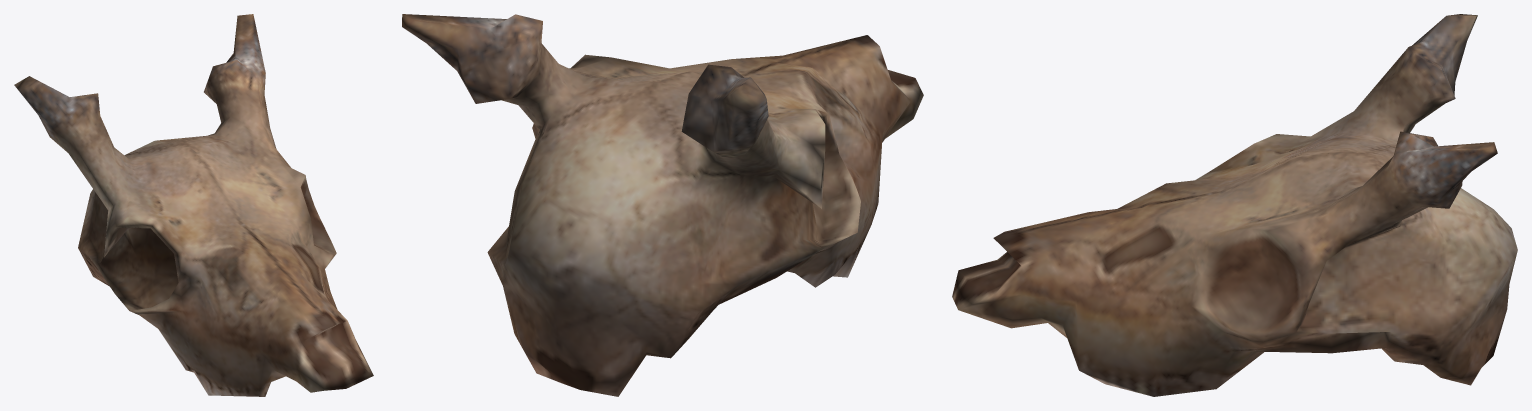
Rendered from skeleton_animal_skull_01.fbx.
3 renders of one model, left to right at view 1: azimuth 30°, elevation 25°; view 2: azimuth 150°, elevation 25°; view 3: azimuth 270°, elevation 25°, orthographic. The views are drawn at different scales.
Visible parts, largest first — view 1: skeleton_animal_skull_01; view 2: skeleton_animal_skull_01; view 3: skeleton_animal_skull_01.
Boxes of the visible parts, x1,y1,x2,y2 form: skeleton_animal_skull_01: (14,14,373,396); skeleton_animal_skull_01: (402,14,923,396); skeleton_animal_skull_01: (952,14,1517,396).
Size of the model in its own units: 23.55 by 22.02 by 38.67.
